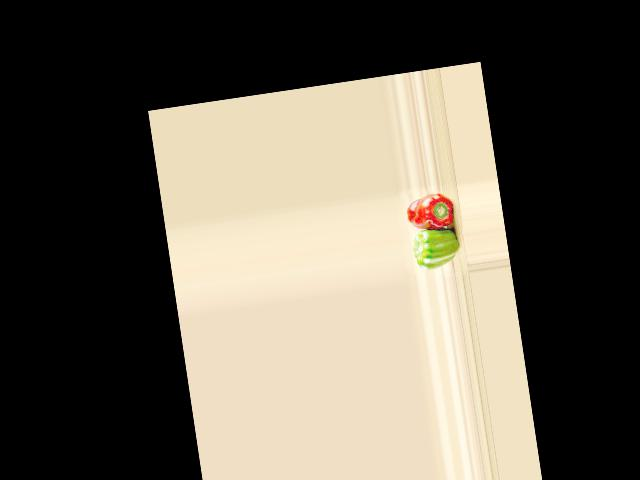bell_pepper: (404, 190, 456, 234)
